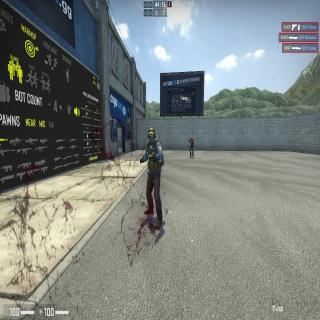CT-Body: (146, 127, 161, 222)
CT-Head: (148, 127, 154, 143)
T-Body: (189, 135, 194, 158)
T-Head: (190, 136, 192, 140)
